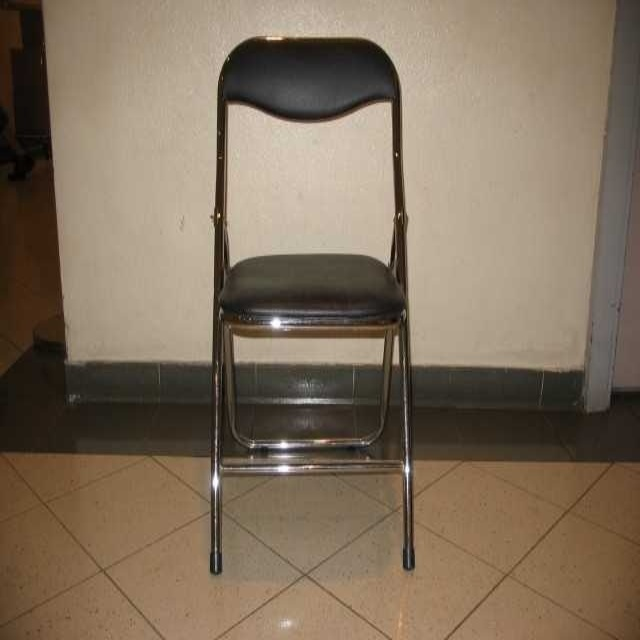obstacle: (210, 37, 414, 573)
